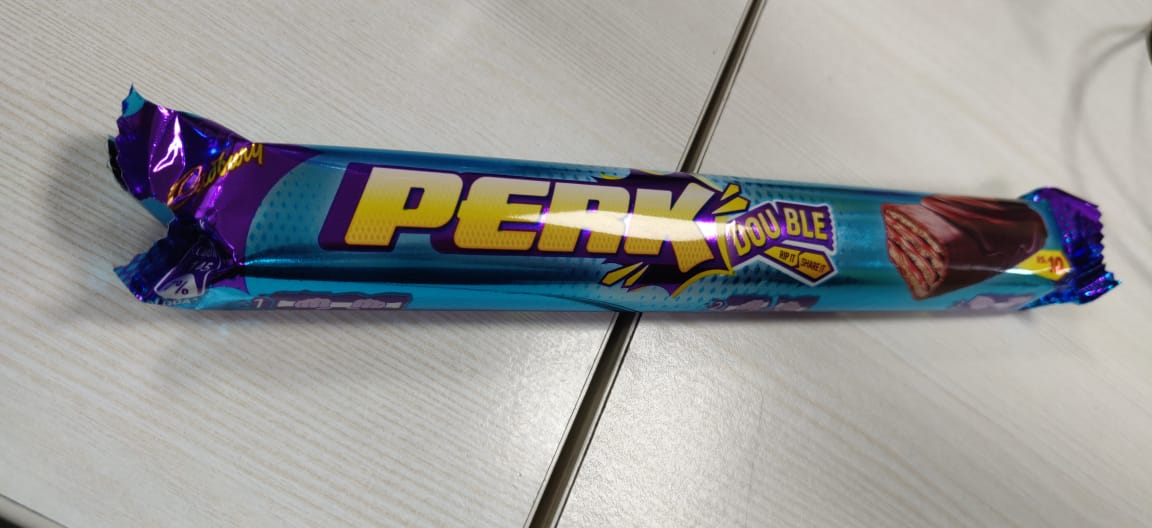perk: (91, 72, 1127, 344)
